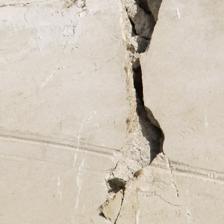Crack: (106, 58, 170, 199), (118, 3, 168, 56), (96, 187, 131, 224)
